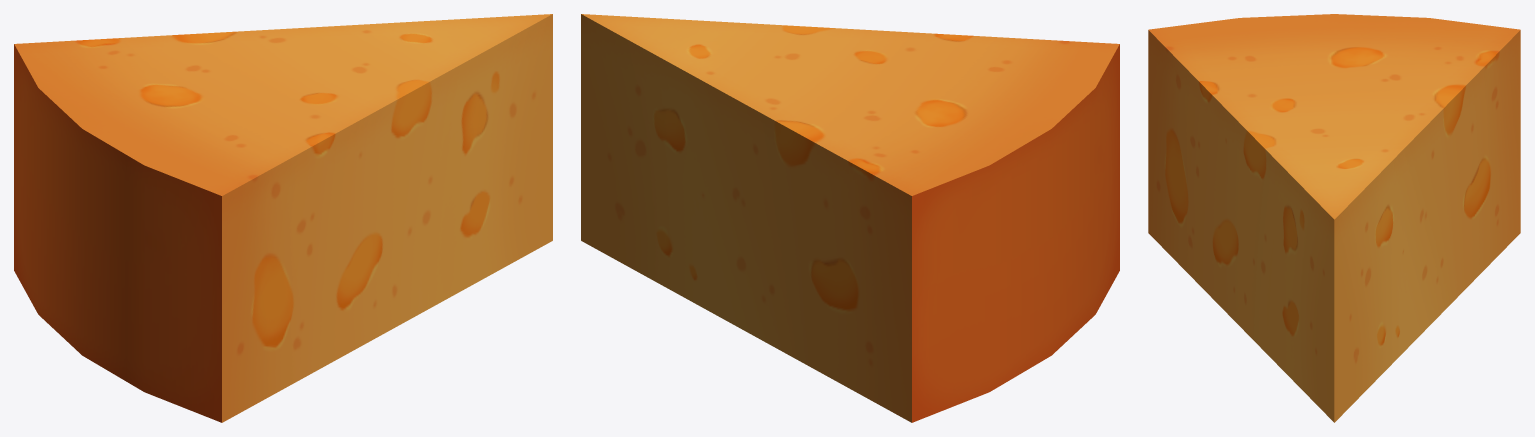
Rendered from cheese.fbx.
3 renders of one model, left to right at view 1: azimuth 30°, elevation 25°; view 2: azimuth 150°, elevation 25°; view 3: azimuth 270°, elevation 25°, orthographic. The views are drawn at different scales.
Parts seen in each view (by area): view 1: pCylinder1; view 2: pCylinder1; view 3: pCylinder1.
Boxes of the visible parts, left/top/right/bottom form: pCylinder1: left=14, top=14, right=552, bottom=422; pCylinder1: left=581, top=14, right=1119, bottom=422; pCylinder1: left=1148, top=14, right=1520, bottom=422.
Size of the model in its own units: 3.26 by 1.5 by 2.49.
